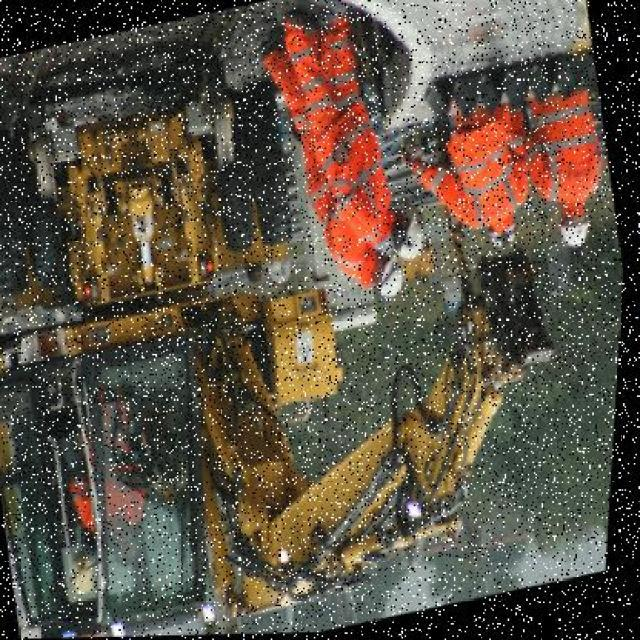helmet: (383, 207, 431, 266), (548, 209, 602, 255), (369, 259, 413, 306)
vest: (428, 106, 542, 246), (314, 111, 414, 247), (512, 94, 608, 217)
